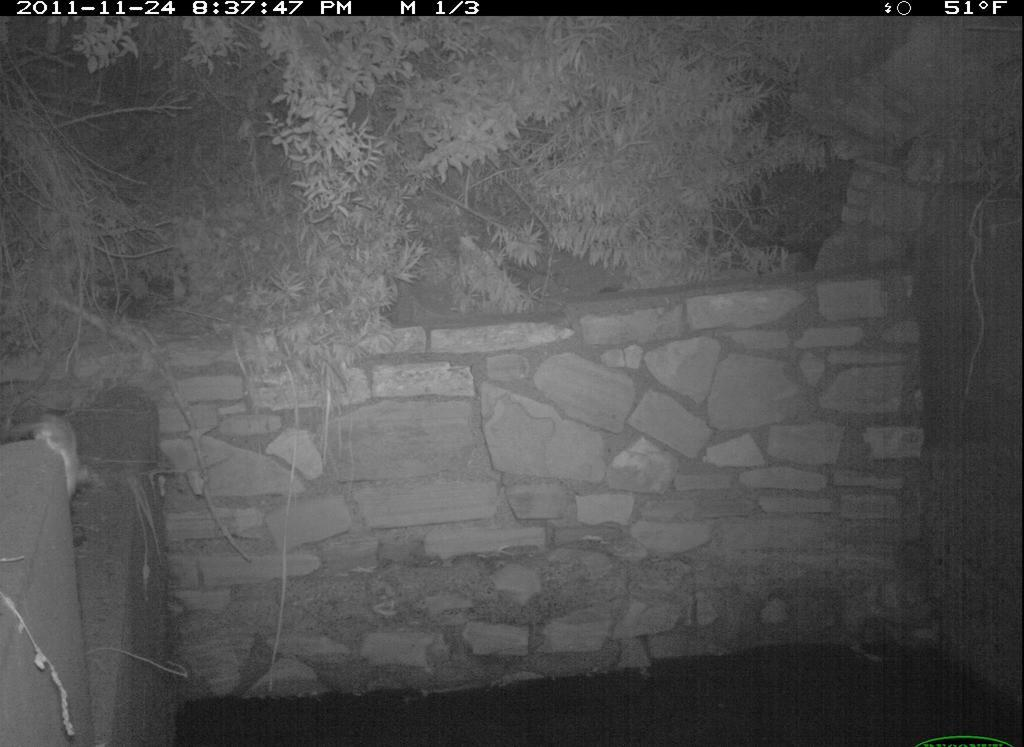rodent: (5, 409, 102, 510)
